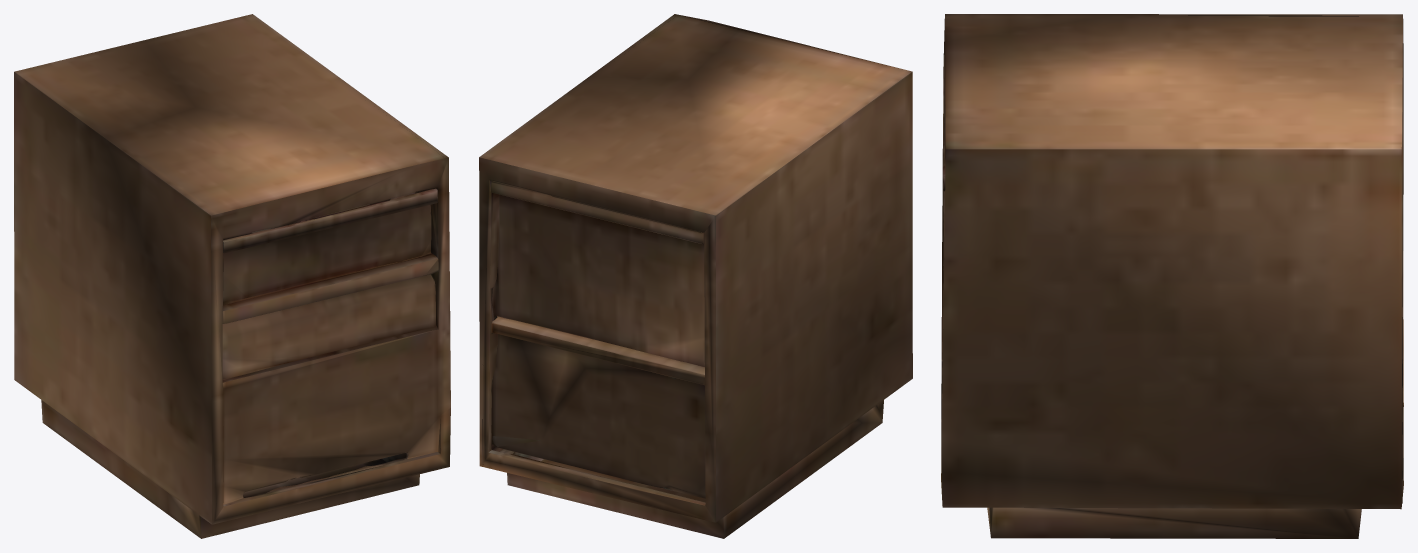
File: bedside-table.lod2.glb
3 views of the same model, side by side, from view 1: azimuth 30°, elevation 25°; view 2: azimuth 150°, elevation 25°; view 3: azimuth 270°, elevation 25° (orthographic). The views are drawn at different scales.
Visible parts, largest first — view 1: geometry_0; view 2: geometry_0; view 3: geometry_0.
Part boxes in pixels (bbox=[...]): geometry_0: bbox=[14, 14, 450, 538]; geometry_0: bbox=[479, 14, 912, 538]; geometry_0: bbox=[941, 14, 1403, 538].
Size of the model in its own units: 0.3587 by 0.4908 by 0.5187.
1 material, 1 textured.
